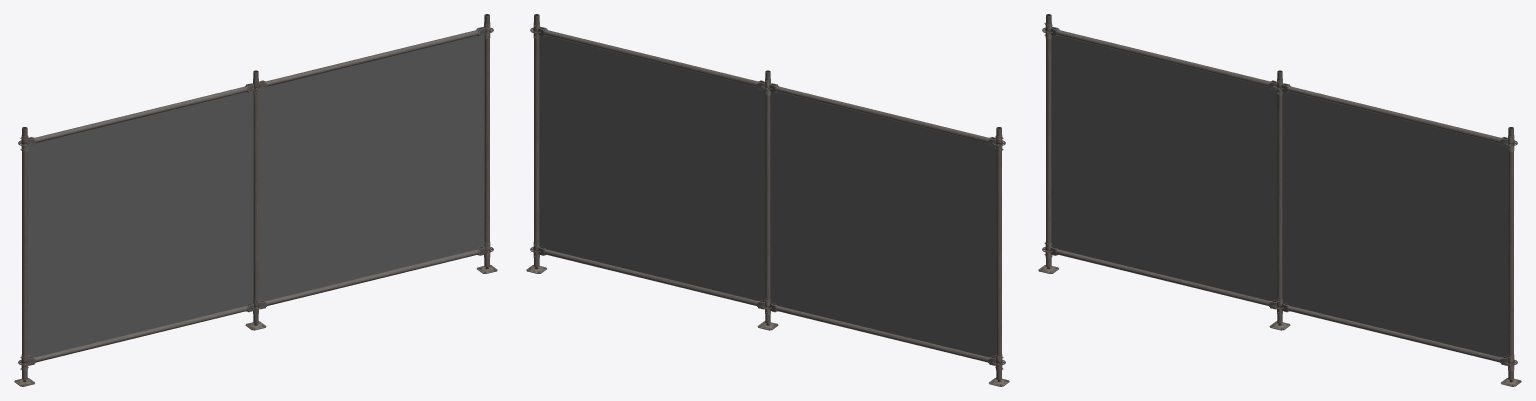
The model's file is scaffold_foot_cap_192.fbx.
3 views of the same model, side by side, from view 1: azimuth 30°, elevation 25°; view 2: azimuth 150°, elevation 25°; view 3: azimuth 330°, elevation 25° (orthographic).
Parts seen in each view (by area): view 1: scaffold_foot_cap_192; view 2: scaffold_foot_cap_192; view 3: scaffold_foot_cap_192.
Part boxes in pixels (x1,y1,x2,y2): scaffold_foot_cap_192: (14,14,497,386); scaffold_foot_cap_192: (526,14,1009,386); scaffold_foot_cap_192: (1038,14,1521,386).
Bounding box in the file's own units: 396 × 202 × 12.11.
